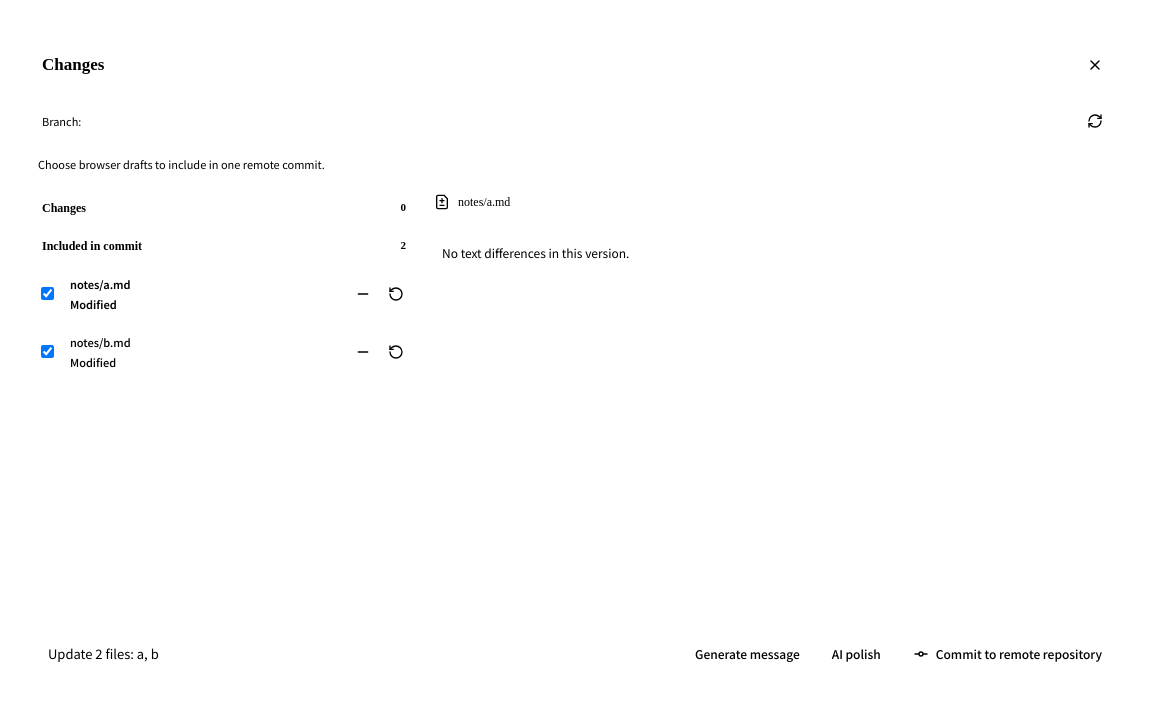
Test: The commit dialog polish button › keeps the message and reports the error when the polish fails
Click the button "AI polish": point(856, 654) [820,636,893,672]
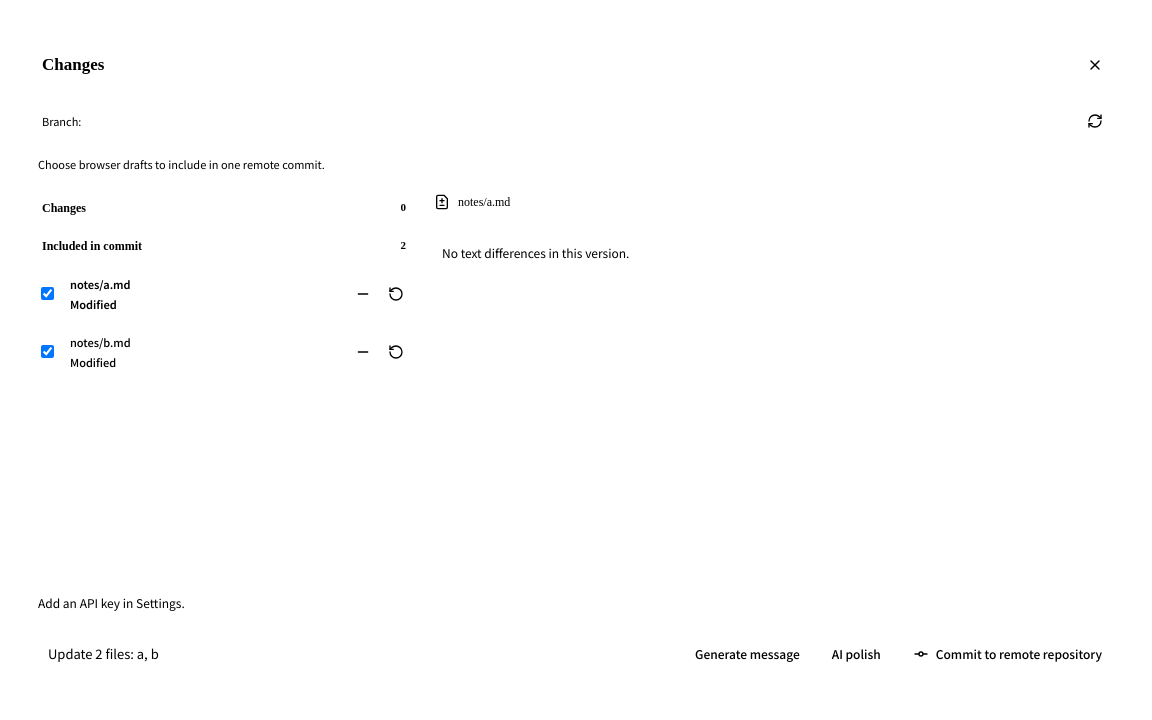
Expected: the field named "Commit Message" holds "Update 2 files: a, b", [38,636,675,672]
Expected: the message reads "Add an API key in Settings.", [38,594,185,611]
